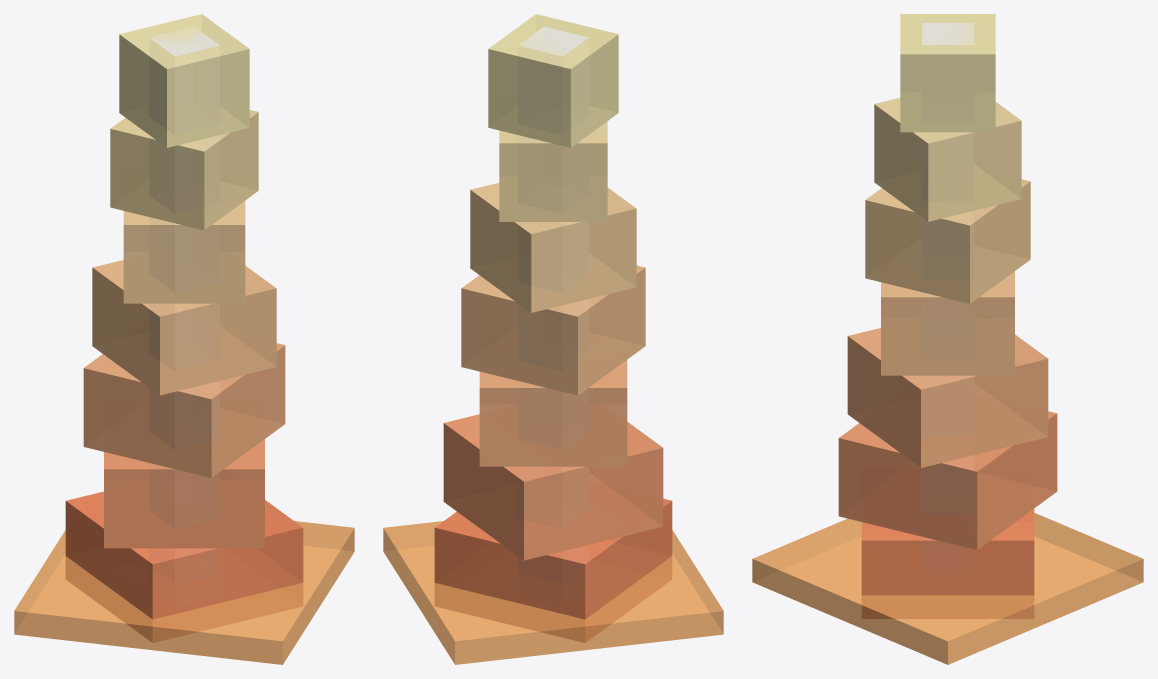
File: FirePillar.fbx
3 views of the same model, side by side, from view 1: azimuth 30°, elevation 25°; view 2: azimuth 150°, elevation 25°; view 3: azimuth 270°, elevation 25° (orthographic).
Visible parts, largest first — view 1: Fire_Base, Fire_Layer, Fire_Layer.002, Fire_Layer.003, Fire_Layer.006, Fire_Layer.001, Fire_Layer.005, Fire_Layer.004, Fire_Core; view 2: Fire_Base, Fire_Layer, Fire_Layer.001, Fire_Layer.003, Fire_Layer.004, Fire_Layer.006, Fire_Layer.002, Fire_Layer.005, Fire_Core; view 3: Fire_Base, Fire_Layer.001, Fire_Layer.002, Fire_Layer, Fire_Layer.004, Fire_Layer.005, Fire_Layer.006, Fire_Layer.003, Fire_Core.
Boxes of the visible parts, left/top/right/bottom form: Fire_Base: left=14, top=521, right=354, bottom=664; Fire_Layer: left=65, top=491, right=303, bottom=642; Fire_Layer.002: left=83, top=343, right=285, bottom=477; Fire_Layer.003: left=92, top=260, right=276, bottom=395; Fire_Layer.006: left=119, top=14, right=249, bottom=147; Fire_Layer.001: left=104, top=439, right=264, bottom=548; Fire_Layer.005: left=110, top=110, right=258, bottom=230; Fire_Layer.004: left=123, top=201, right=245, bottom=303; Fire_Core: left=149, top=27, right=219, bottom=56; Fire_Base: left=383, top=521, right=723, bottom=664; Fire_Layer: left=434, top=498, right=672, bottom=642; Fire_Layer.001: left=443, top=414, right=663, bottom=560; Fire_Layer.003: left=461, top=265, right=645, bottom=395; Fire_Layer.004: left=470, top=183, right=636, bottom=312; Fire_Layer.006: left=488, top=14, right=618, bottom=147; Fire_Layer.002: left=479, top=360, right=627, bottom=466; Fire_Layer.005: left=499, top=121, right=607, bottom=221; Fire_Core: left=518, top=26, right=588, bottom=56; Fire_Base: left=752, top=513, right=1143, bottom=664; Fire_Layer.001: left=838, top=411, right=1057, bottom=549; Fire_Layer.002: left=847, top=328, right=1048, bottom=467; Fire_Layer: left=861, top=509, right=1034, bottom=618; Fire_Layer.004: left=865, top=179, right=1030, bottom=303; Fire_Layer.005: left=874, top=98, right=1021, bottom=221; Fire_Layer.006: left=900, top=14, right=995, bottom=132; Fire_Layer.003: left=881, top=271, right=1014, bottom=375; Fire_Core: left=922, top=23, right=973, bottom=44.
Size of the model in its own units: 253 by 392 by 253.
